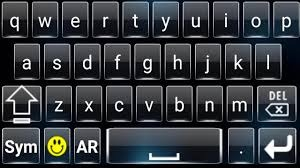keyboard: (0, 1, 300, 168)
